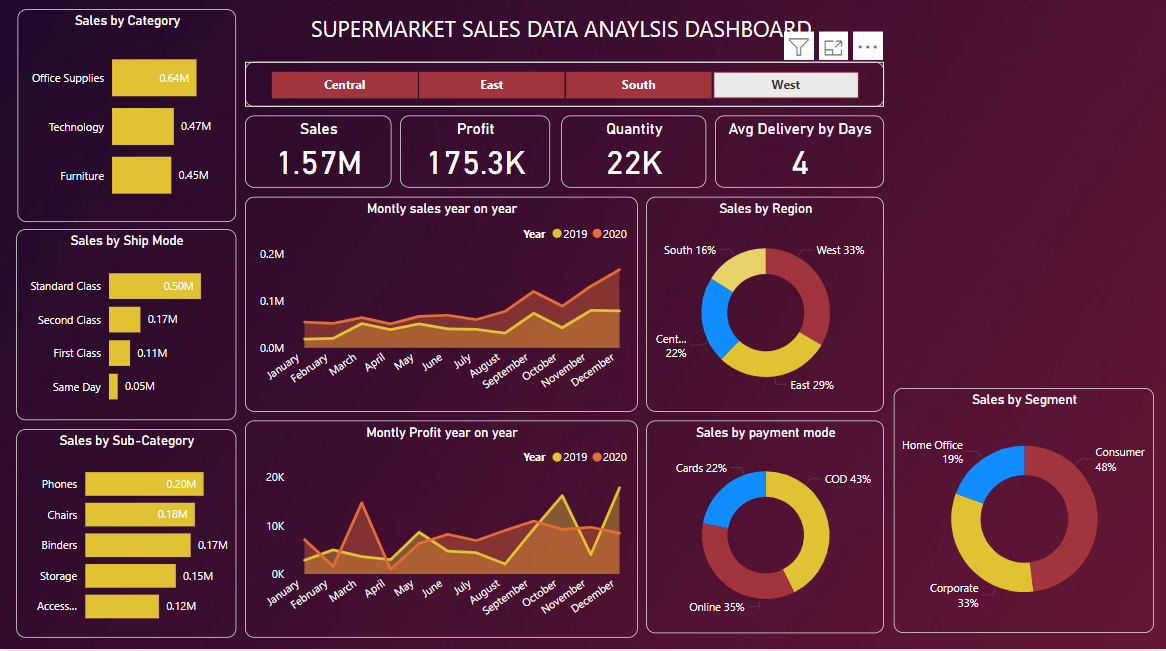

The page's visual inventory and layout, read from the dashboard file:
{"tool":"powerbi","page":{"name":"Page 1","canvas":[1280,720],"ordinal":0},"visuals":[{"type":"clusteredBarChart","title":"Sales by Category","fields":{"Category":["SuperStore_Sales_Dataset.Category"],"Y":["Sum(SuperStore_Sales_Dataset.Sales)"]},"box":[19.2,17.8,240.1,233.3],"z":0},{"type":"clusteredBarChart","title":"Sales by Sub-Category","fields":{"Y":["Sum(SuperStore_Sales_Dataset.Sales)"],"Category":["SuperStore_Sales_Dataset.Sub-Category"]},"box":[17.8,478.9,241.5,229.2],"z":1000},{"type":"clusteredBarChart","title":"Sales by Ship Mode","fields":{"Y":["Sum(SuperStore_Sales_Dataset.Sales)"],"Category":["SuperStore_Sales_Dataset.Ship Mode"]},"box":[17.8,259.3,241.5,209.9],"z":2000},{"type":"areaChart","title":"Montly sales year on year ","fields":{"Category":["SuperStore_Sales_Dataset.Order Date.Variation.Date Hierarchy.Month"],"Y":["Sum(SuperStore_Sales_Dataset.Sales)"],"Series":["SuperStore_Sales_Dataset.Order Date.Variation.Date Hierarchy.Year"]},"box":[269,223.7,430.9,236],"z":3000},{"type":"areaChart","title":"Montly Profit year on year ","fields":{"Category":["SuperStore_Sales_Dataset.Order Date.Variation.Date Hierarchy.Month"],"Series":["SuperStore_Sales_Dataset.Order Date.Variation.Date Hierarchy.Year"],"Y":["Sum(SuperStore_Sales_Dataset.Profit)"]},"box":[269,469.3,430.9,238.8],"z":4000},{"type":"map","title":" Sales and Profit by State","fields":{"Size":["Sum(SuperStore_Sales_Dataset.Sales)"],"Category":["SuperStore_Sales_Dataset.State"]},"box":[981.1,17.8,285.4,404.8],"z":5000},{"type":"donutChart","title":" Sales by Segment","fields":{"Category":["SuperStore_Sales_Dataset.Segment"],"Y":["Sum(SuperStore_Sales_Dataset.Sales)"]},"box":[981.1,433.6,285.4,269],"z":6000},{"type":"donutChart","title":" Sales by Region","fields":{"Category":["SuperStore_Sales_Dataset.Region"],"Y":["Sum(SuperStore_Sales_Dataset.Sales)"]},"box":[709.4,223.7,260.7,236],"z":7000},{"type":"donutChart","title":" Sales by payment mode","fields":{"Y":["Sum(SuperStore_Sales_Dataset.Sales)"],"Category":["SuperStore_Sales_Dataset.Payment Mode"]},"box":[709.4,469.3,260.7,233.3],"z":8000},{"type":"card","title":"Sales","fields":{"Values":["Sum(SuperStore_Sales_Dataset.Sales)"]},"box":[269,134.5,160.5,79.6],"z":9000},{"type":"card","title":"Profit","fields":{"Values":["Sum(SuperStore_Sales_Dataset.Profit)"]},"box":[439.1,134.5,164.7,79.6],"z":10000},{"type":"card","title":"Quantity","fields":{"Values":["Sum(SuperStore_Sales_Dataset.Quantity)"]},"box":[616.1,134.5,159.2,79.6],"z":11000},{"type":"card","title":"Avg Delivery by Days","fields":{"Values":["Avg(SuperStore_Sales_Dataset.AvgDeliverDays)"]},"box":[784.9,134.5,185.2,79.6],"z":12000},{"type":"slicer","fields":{"Values":["SuperStore_Sales_Dataset.Region"]},"box":[269,75.5,701.2,49.4],"z":13000},{"type":"textbox","box":[328,17.8,576.3,48],"z":14000}]}

Visuals, with their boxes in screenshot pixels (x1, y1, x2, y2), scaled from the page's 1280x720 canvas onto the 1166x651 screenshot:
"Sales by Category" clusteredBarChart: 17 16 236 227
"Sales by Sub-Category" clusteredBarChart: 16 433 236 640
"Sales by Ship Mode" clusteredBarChart: 16 234 236 424
"Montly sales year on year " areaChart: 245 202 638 416
"Montly Profit year on year " areaChart: 245 424 638 640
" Sales and Profit by State" map: 894 16 1154 382
" Sales by Segment" donutChart: 894 392 1154 635
" Sales by Region" donutChart: 646 202 884 416
" Sales by payment mode" donutChart: 646 424 884 635
"Sales" card: 245 122 391 194
"Profit" card: 400 122 550 194
"Quantity" card: 561 122 706 194
"Avg Delivery by Days" card: 715 122 884 194
slicer - SuperStore_Sales_Dataset.Region: 245 68 884 113
textbox: 299 16 824 59
